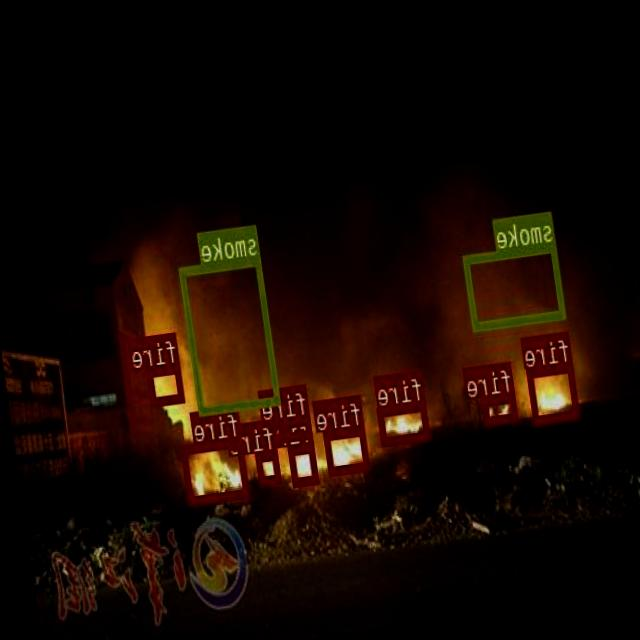fire: (181, 436, 252, 504), (528, 361, 582, 424), (378, 401, 432, 444), (324, 425, 370, 473), (148, 363, 186, 405), (290, 443, 320, 485), (483, 392, 520, 424), (279, 414, 313, 440), (257, 450, 283, 483)
smoke: (179, 256, 282, 413), (464, 242, 567, 328)
